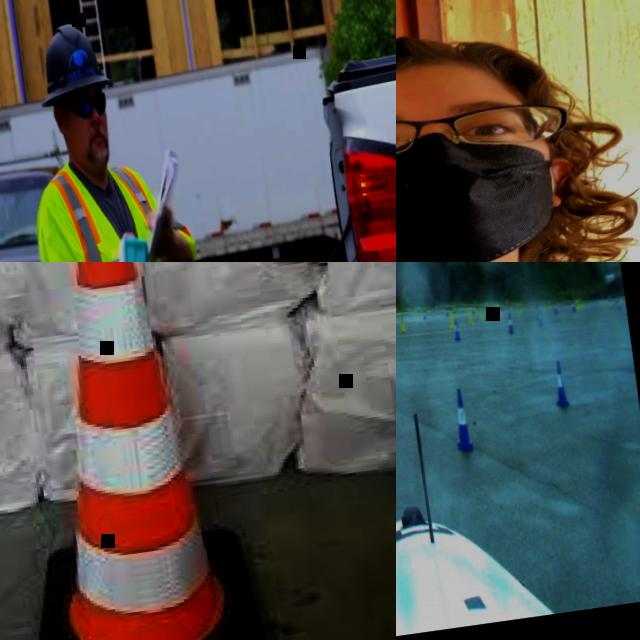Hardhat: (30, 17, 113, 105)
Mask: (396, 119, 573, 262)
NO-Hardhat: (396, 17, 542, 129)
NO-Mask: (72, 126, 115, 170)
Person: (396, 0, 640, 262), (1, 11, 243, 262)
Safety Cone: (0, 262, 275, 640), (449, 387, 476, 452), (550, 359, 571, 408), (453, 318, 462, 341), (506, 312, 514, 334), (400, 314, 407, 334), (467, 308, 474, 326), (536, 309, 543, 327), (495, 300, 502, 316), (552, 299, 559, 314), (449, 312, 455, 328), (478, 306, 484, 320), (486, 304, 492, 318), (617, 296, 623, 310), (517, 301, 523, 314), (452, 306, 457, 320), (414, 310, 419, 322), (422, 308, 427, 320), (499, 300, 504, 312), (571, 300, 576, 311), (576, 298, 580, 310), (445, 306, 449, 317), (579, 297, 583, 307), (434, 303, 438, 311), (406, 304, 410, 312), (396, 307, 397, 314)
Safety Vest: (26, 148, 228, 262)
vehicle: (181, 17, 396, 262), (0, 150, 97, 262)
